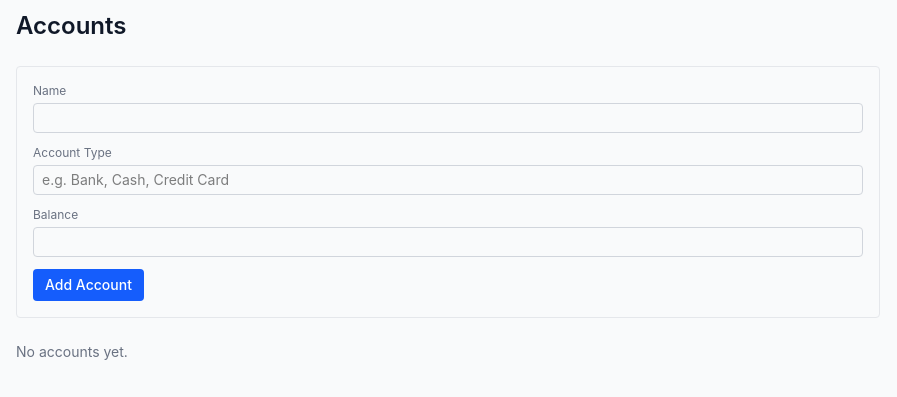
Test: AccountsPage › submits the create form and refetches the list
Expected: the text "No accounts yet." is shown, [16, 343, 128, 360]
Type "Checking" into the field labelled "Name" at {"x": 448, "y": 118}, box [33, 103, 863, 133]
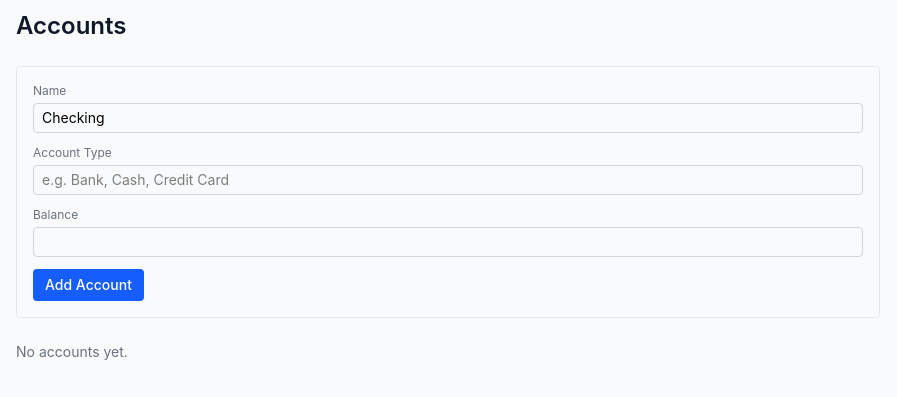
Type "Bank" into the field labelled "Account Type" at {"x": 448, "y": 180}, box [33, 165, 863, 195]
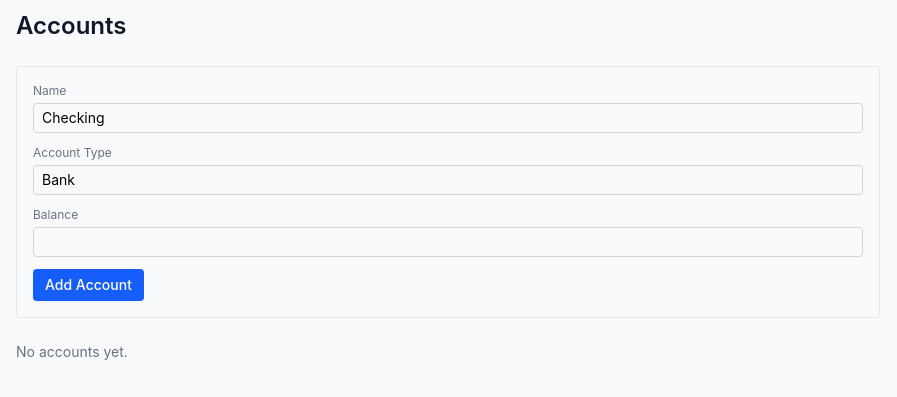
Type "1500" into the number field labelled "Balance" at {"x": 448, "y": 242}, box [33, 227, 863, 257]
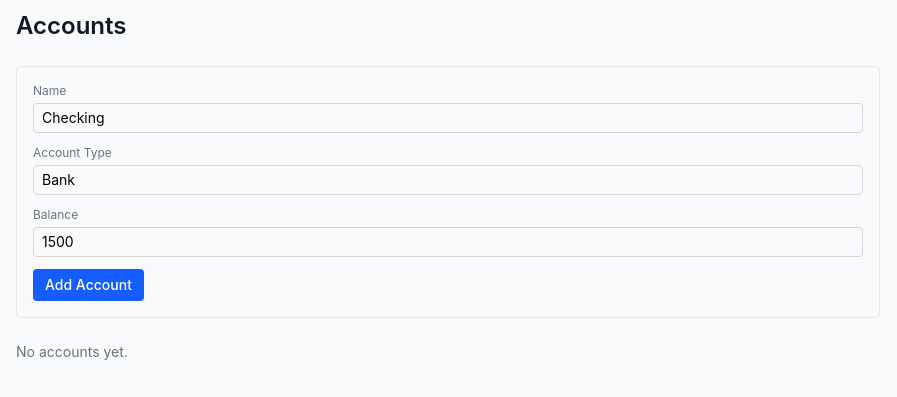
Click the button "Add Account" at {"x": 88, "y": 285}, box [33, 269, 144, 301]
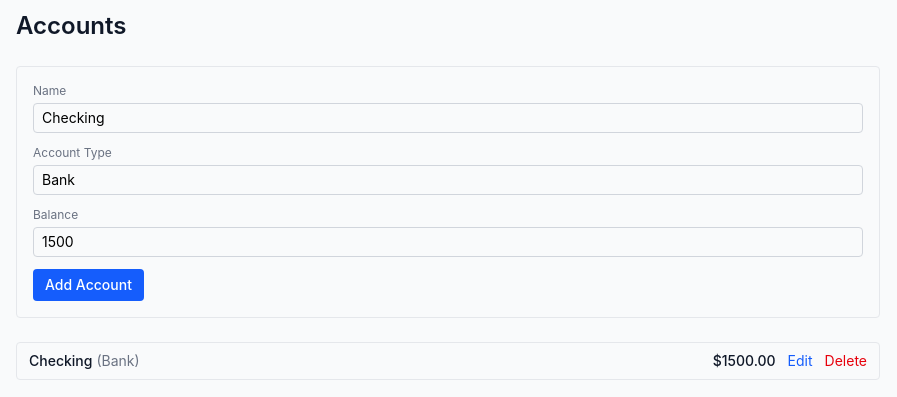
Expected: the text "Checking" is shown, [29, 352, 92, 369]
